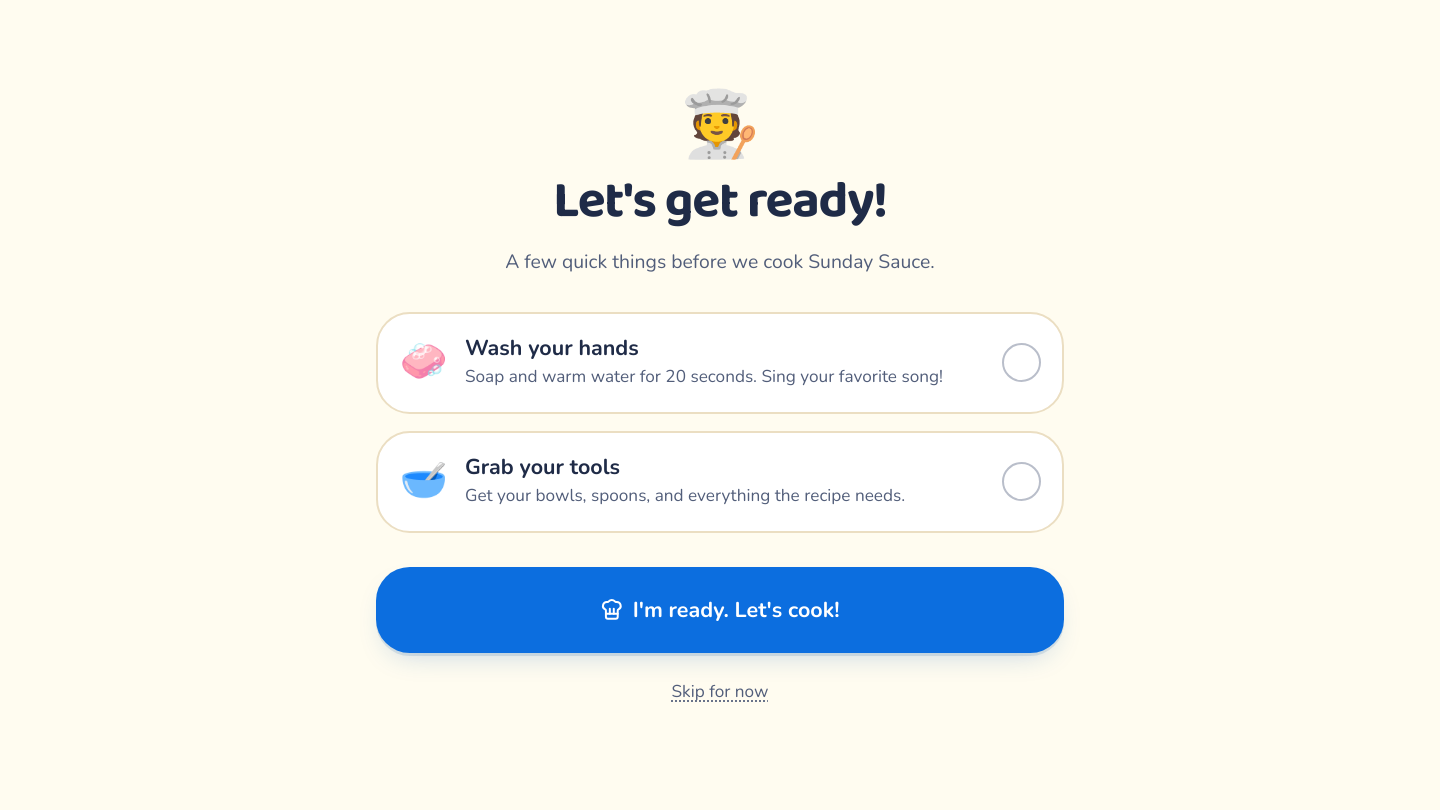
Test case: Cook Mode get-ready gate (issue #444) › proceeds into step 1 when the child taps the ready button
Click the button "I'm ready. Let's cook!" at (720, 610), box [376, 567, 1064, 653]
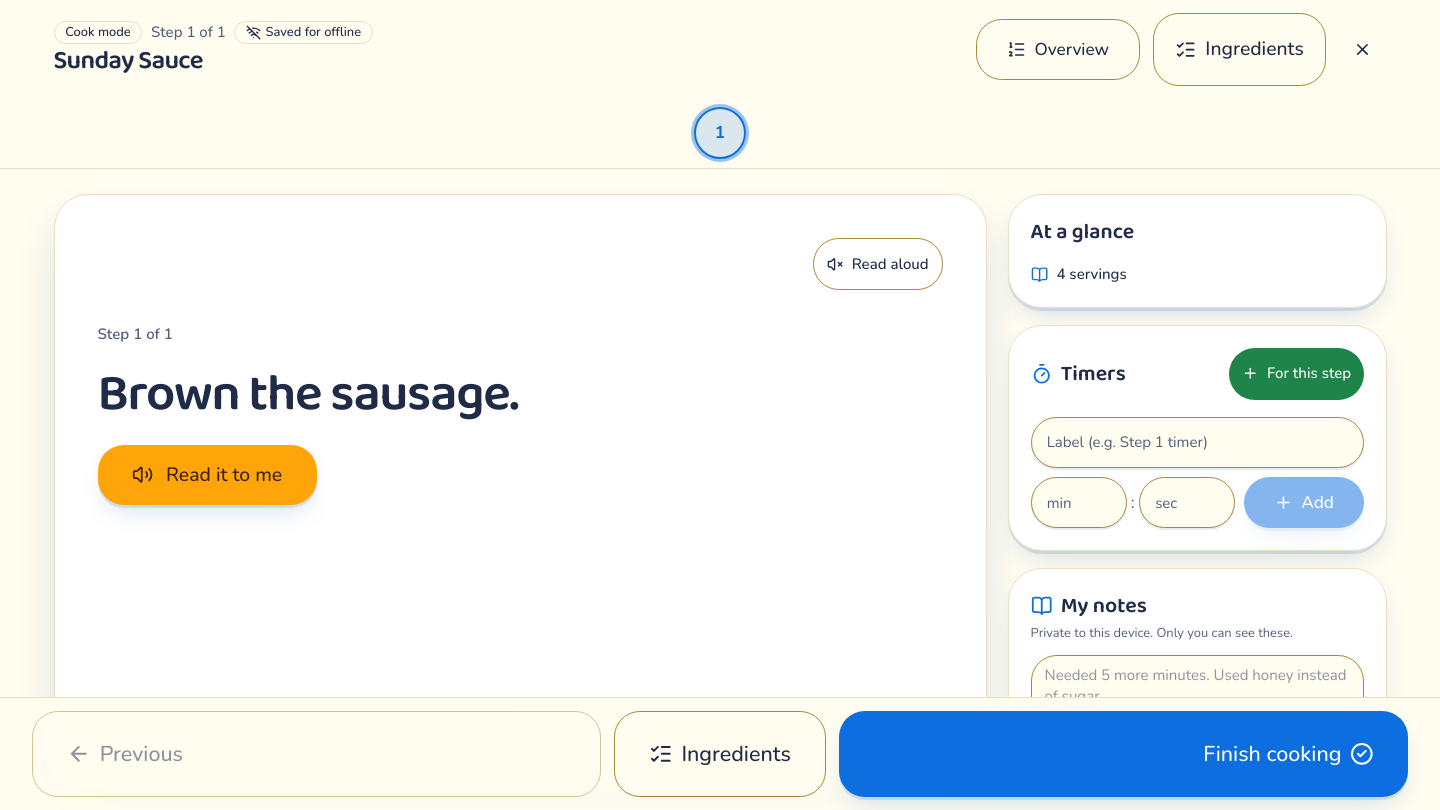
Expected: the button "Finish cooking" is shown, [839, 711, 1408, 797]
Expected: the heading "Let's get ready" is gone
